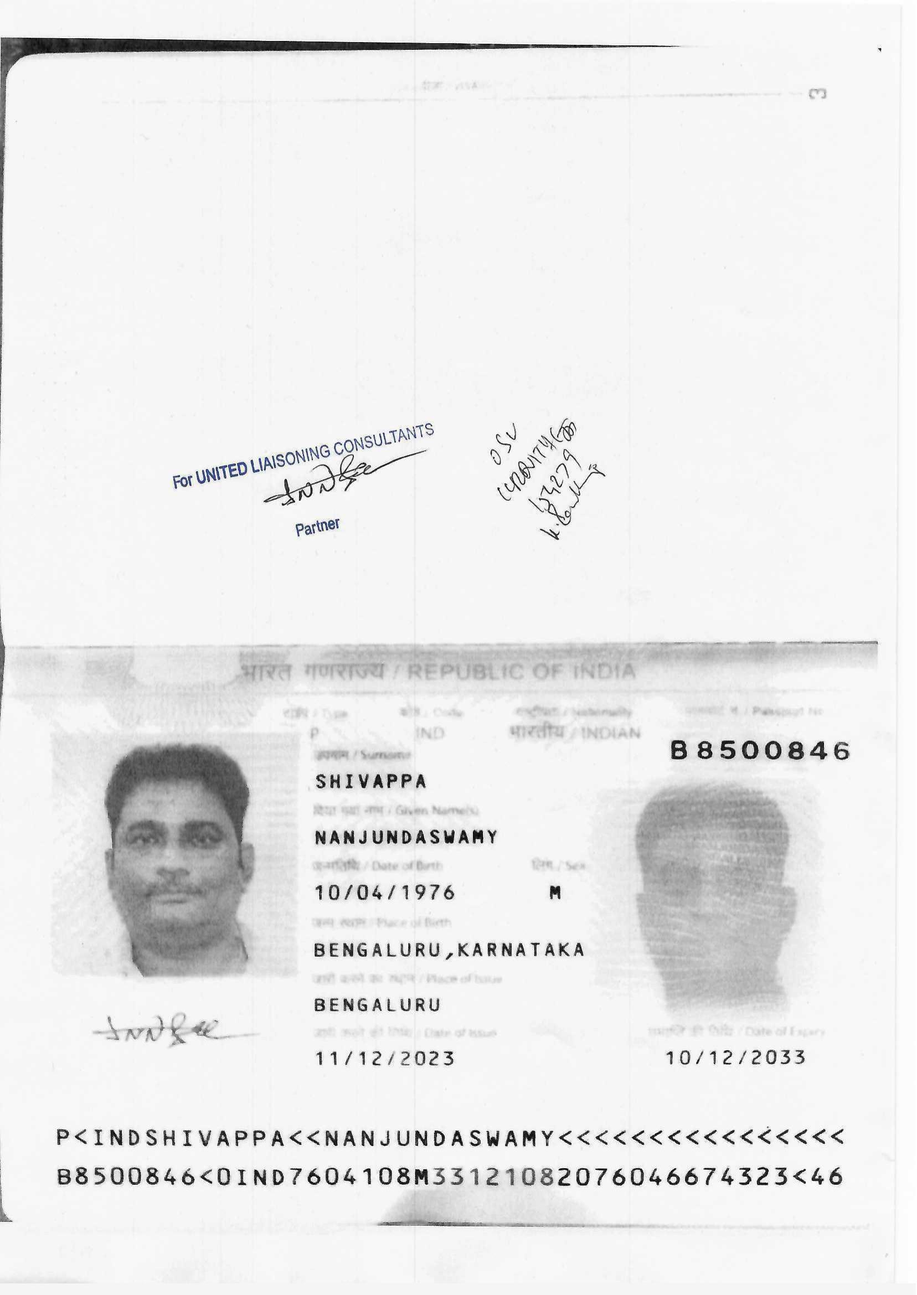DOB: (302, 871, 466, 914)
Surname: (308, 761, 447, 795)
country_code: (407, 717, 454, 748)
date_of_expiry: (648, 1037, 815, 1077)
date_of_issue: (302, 1042, 473, 1073)
details: (40, 1113, 868, 1201)
name: (300, 817, 514, 857)
nationality: (493, 713, 654, 751)
passport_no: (658, 727, 861, 771)
photo: (62, 741, 285, 965)
place_of_birth: (306, 932, 602, 966)
place_of_issue: (298, 984, 468, 1029)
sex: (528, 871, 585, 911)
sign: (82, 1002, 251, 1073)
type: (291, 718, 344, 749)
